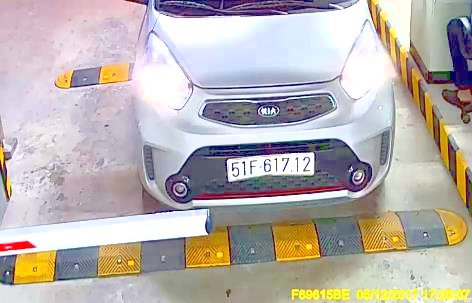plate: (224, 149, 315, 183)
